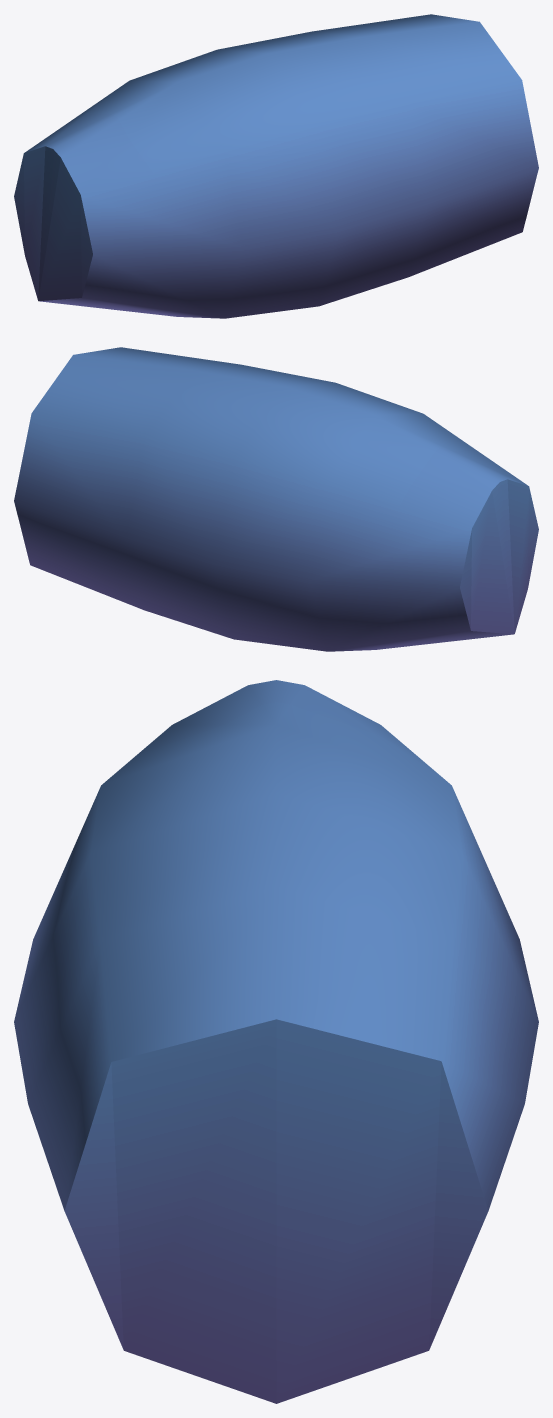
Rendered from Space_Ship_Exploded_02.fbx.
3 views of the same model, one above another, from view 1: azimuth 30°, elevation 25°; view 2: azimuth 150°, elevation 25°; view 3: azimuth 270°, elevation 25° (orthographic). The views are drawn at different scales.
Parts seen in each view (by area): view 1: polySurface39; view 2: polySurface39; view 3: polySurface39.
Boxes of the visible parts, <box> form: polySurface39: <box>14,14,538,318</box>; polySurface39: <box>14,347,538,651</box>; polySurface39: <box>14,680,538,1403</box>.
Bounding box in the file's own units: 617 × 333 × 345.
Materials: 1 (1 with a texture image).
